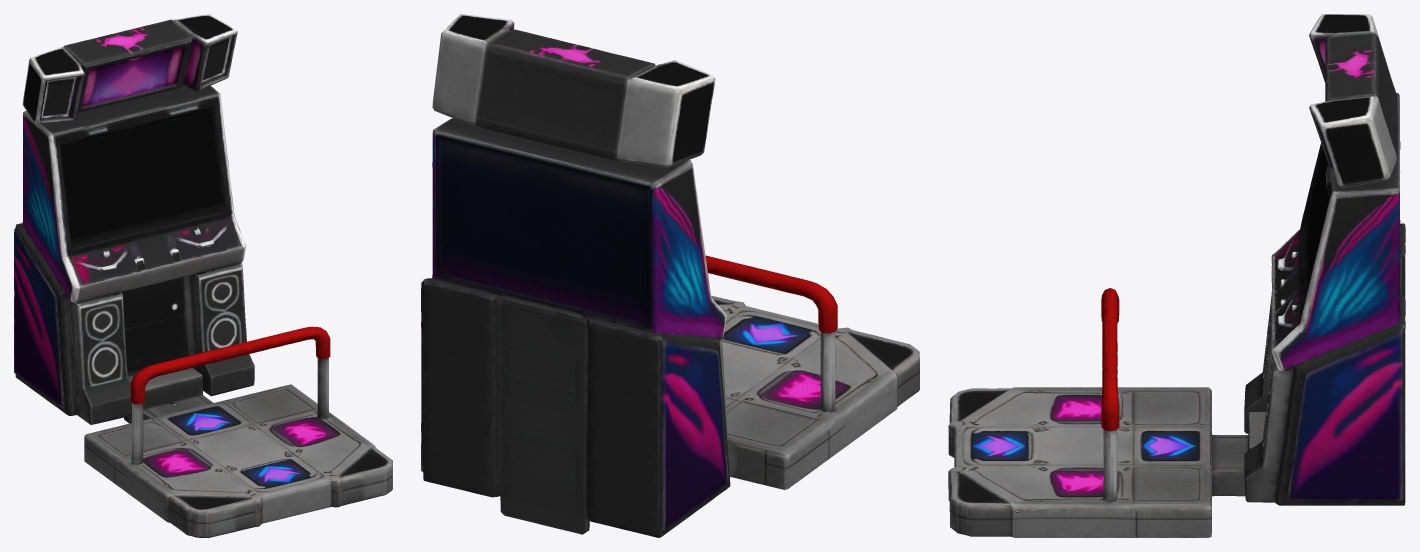
Rendered from 19_arcade_19_dance_machine.glb.
The picture shows the model from 3 angles, left to right: view 1: azimuth 30°, elevation 25°; view 2: azimuth 150°, elevation 25°; view 3: azimuth 270°, elevation 25°; orthographic projection. The views are drawn at different scales.
Parts seen in each view (by area): view 1: world; view 2: world; view 3: world.
Part boxes in pixels (x1,y1,x2,y2): world: [14, 14, 392, 537]; world: [421, 14, 919, 537]; world: [948, 14, 1405, 537].
Size of the model in its own units: 0.6213 by 1 by 1.
Materials: 1 (1 with a texture image).
